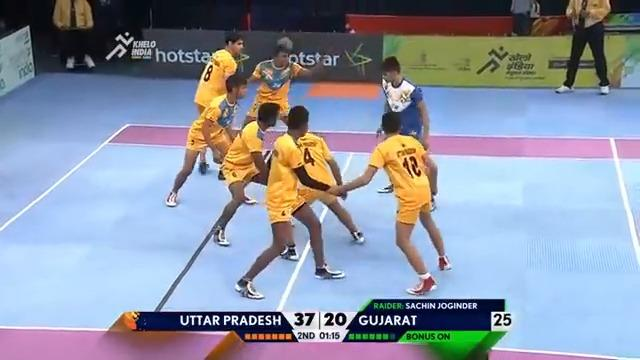Player: (327, 111, 452, 295), (234, 105, 346, 299), (278, 105, 365, 261), (211, 101, 295, 254), (165, 73, 249, 206), (192, 31, 246, 177), (243, 36, 311, 128), (554, 0, 612, 94), (51, 0, 96, 70)
Raider: (374, 55, 438, 210)
referee: (509, 0, 534, 35)
